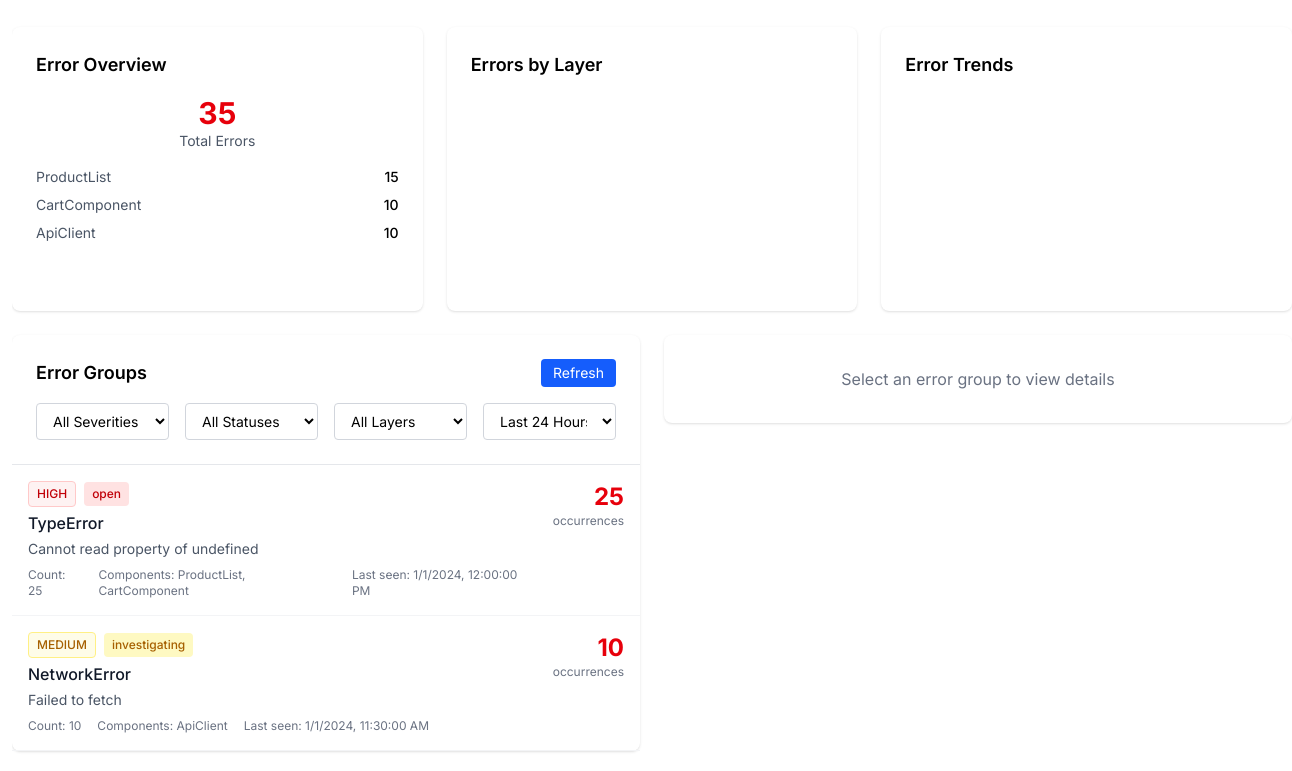
it: ErrorAnalysisInterface › shows stack trace in expandable details
Click the text "TypeError".
click(66, 523)  # box x1=28 y1=513 x2=104 y2=533
(page scrolled)
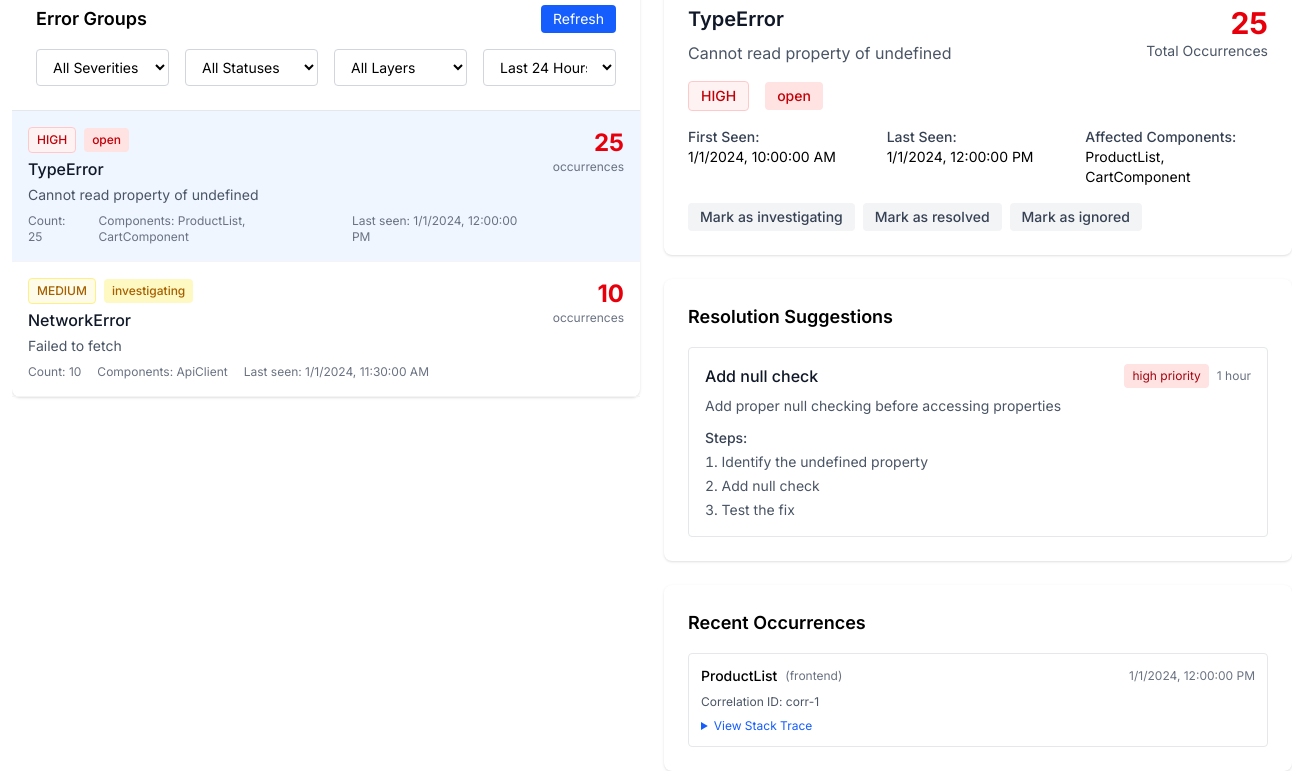
Expected: the heading "View Stack Trace" is shown
Click the heading "View Stack Trace".
click(763, 726)  # box x1=714 y1=718 x2=812 y2=733
(page scrolled)
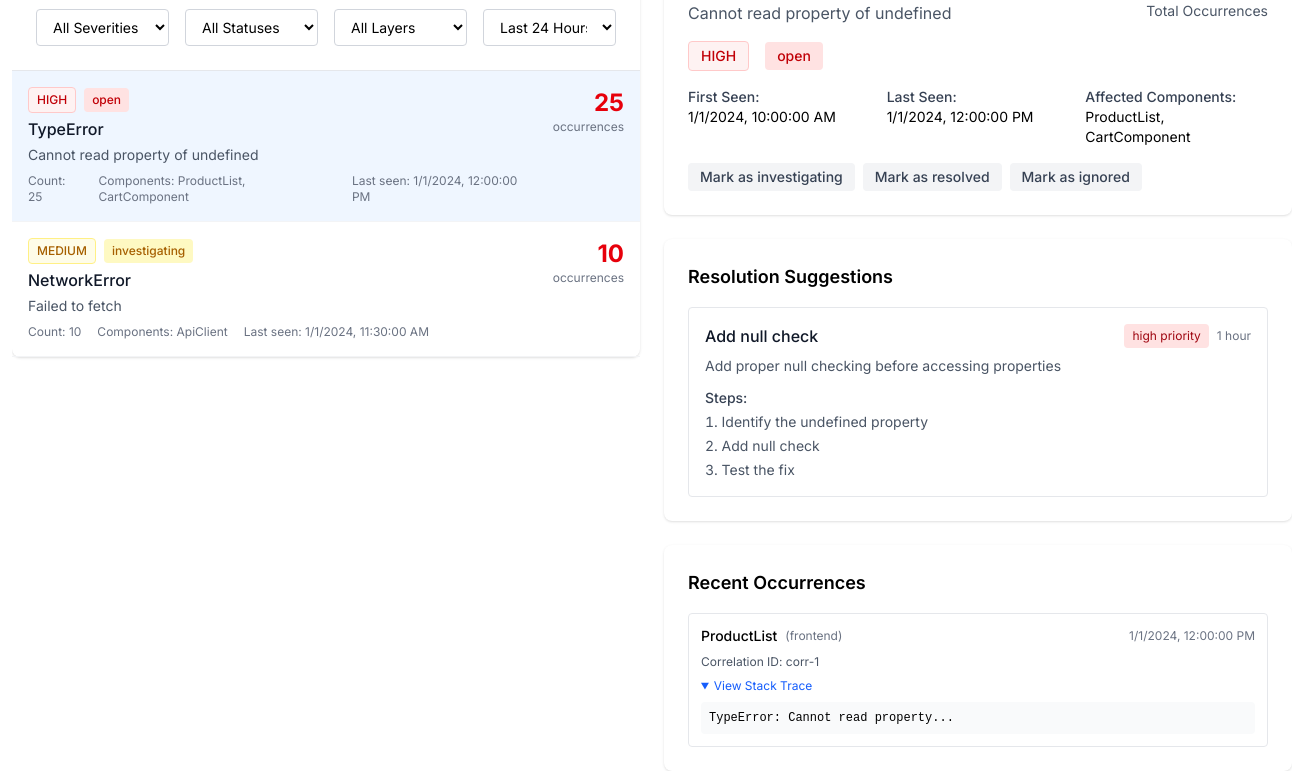
Expected: the text "TypeError: Cannot read property..." is shown, x1=701 y1=702 x2=1255 y2=734
